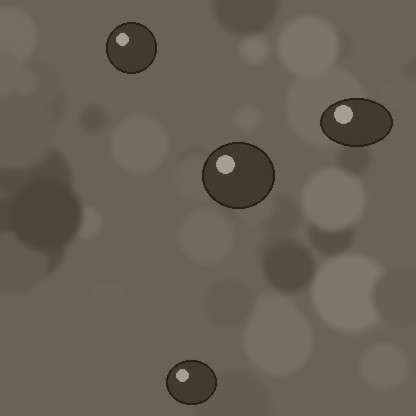gota: (202, 144, 274, 214), (320, 100, 392, 150), (106, 24, 156, 78), (166, 362, 216, 408)
